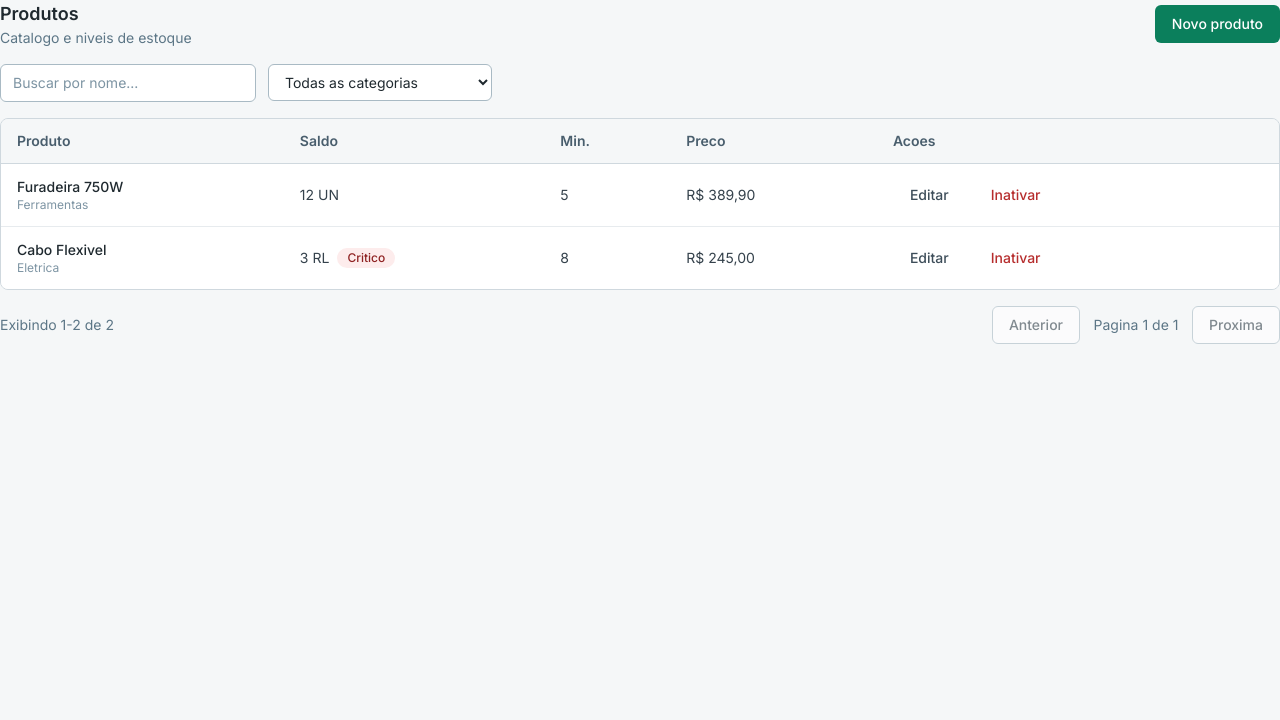
Scenario: Produtos › abre o modal de novo produto
Expected: the text "Furadeira 750W" is shown, [17, 177, 123, 197]
Click the button "Novo produto" at [1217, 24], box [1155, 5, 1279, 43]
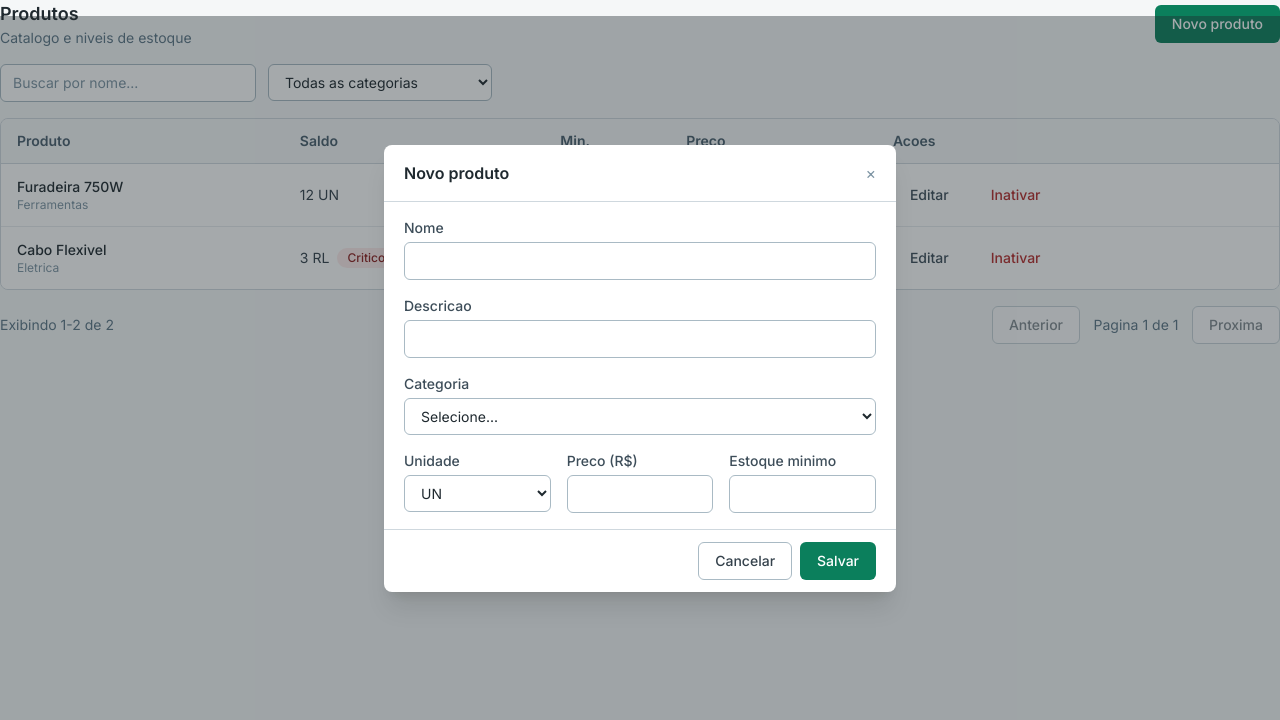
Expected: the dialog is shown, [384, 144, 896, 592]
